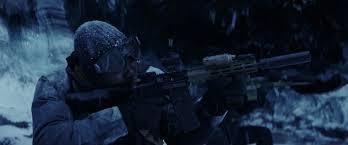rifle: (67, 50, 318, 132)
